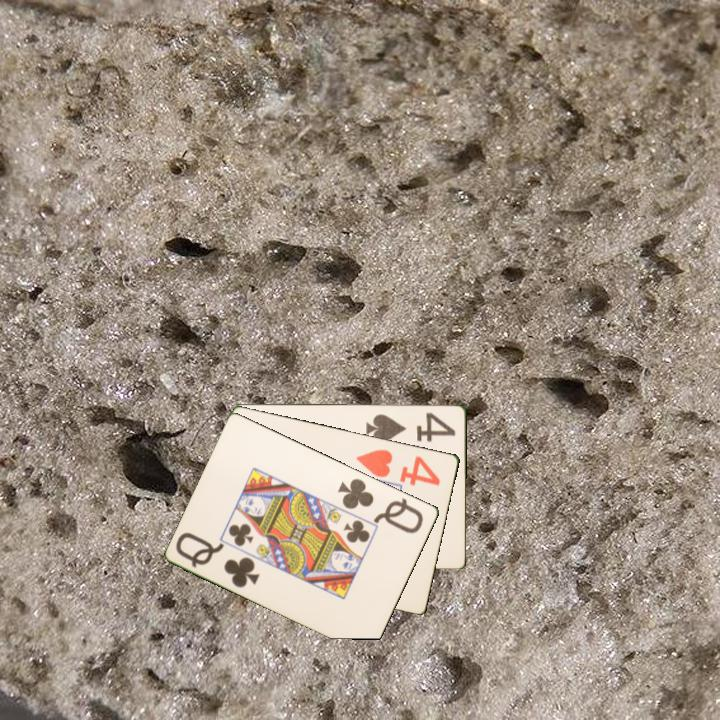4h: (353, 445, 444, 488)
4s: (363, 409, 458, 445)
Qc: (334, 474, 427, 536), (172, 528, 263, 591)
